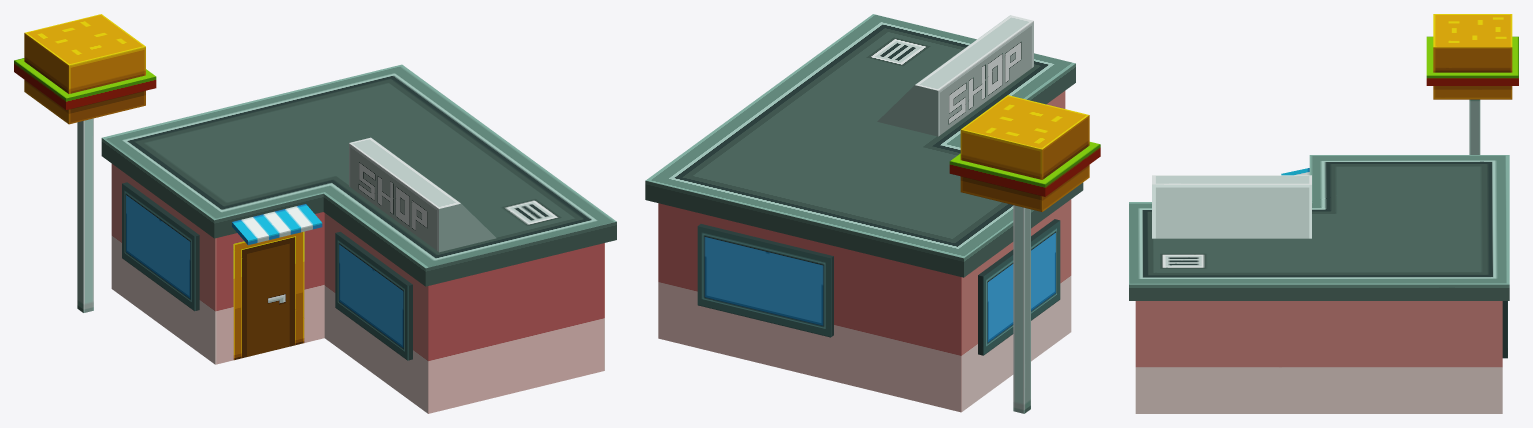
Rendered from shop.fbx.
3 views of the same model, side by side, from view 1: azimuth 30°, elevation 25°; view 2: azimuth 150°, elevation 25°; view 3: azimuth 270°, elevation 25° (orthographic). The views are drawn at different scales.
Visible parts, largest first — view 1: shop:Mesh; view 2: shop:Mesh; view 3: shop:Mesh.
Part boxes in pixels (bbox=[...]): shop:Mesh: bbox=[14, 14, 616, 413]; shop:Mesh: bbox=[645, 14, 1100, 413]; shop:Mesh: bbox=[1129, 14, 1518, 413].
Size of the model in its own units: 15.78 by 10.73 by 15.73.
